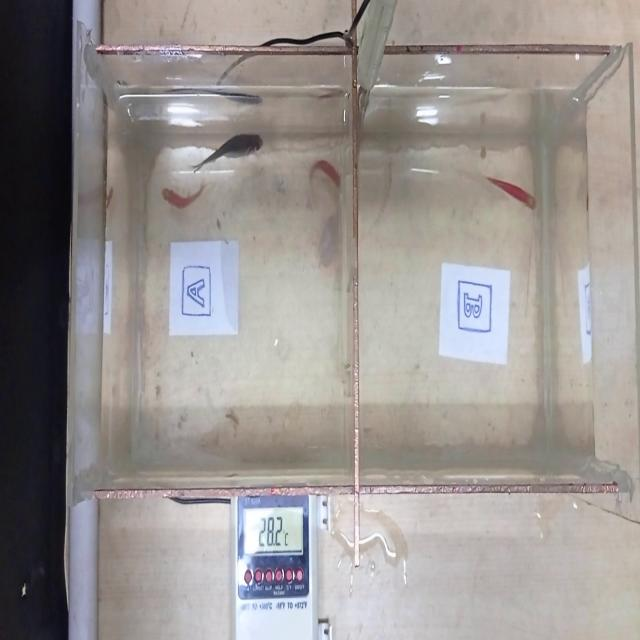Fish A1: (184, 120, 277, 178)
Fish A2: (156, 184, 208, 226)
Fish A3: (306, 139, 348, 223)
Fish B: (475, 145, 550, 238)
